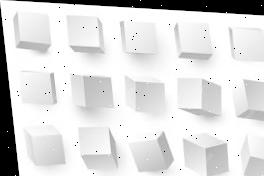cube: (16, 118, 66, 169), (123, 124, 173, 174), (177, 129, 230, 176), (69, 122, 117, 172), (173, 72, 224, 114), (120, 72, 170, 112), (66, 71, 113, 109), (12, 67, 56, 106), (65, 13, 105, 54), (228, 74, 264, 118), (12, 12, 51, 52), (232, 129, 264, 176), (173, 19, 212, 57), (118, 17, 157, 54), (228, 23, 264, 59)
